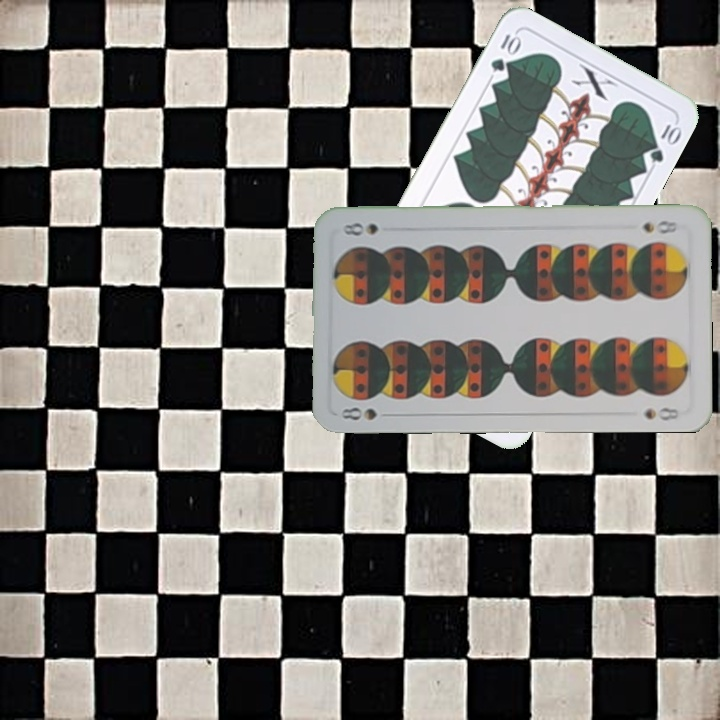G10: (486, 30, 523, 75)
S8: (338, 403, 396, 423), (638, 217, 681, 237)
